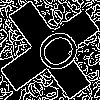O: (25, 25, 85, 83)
